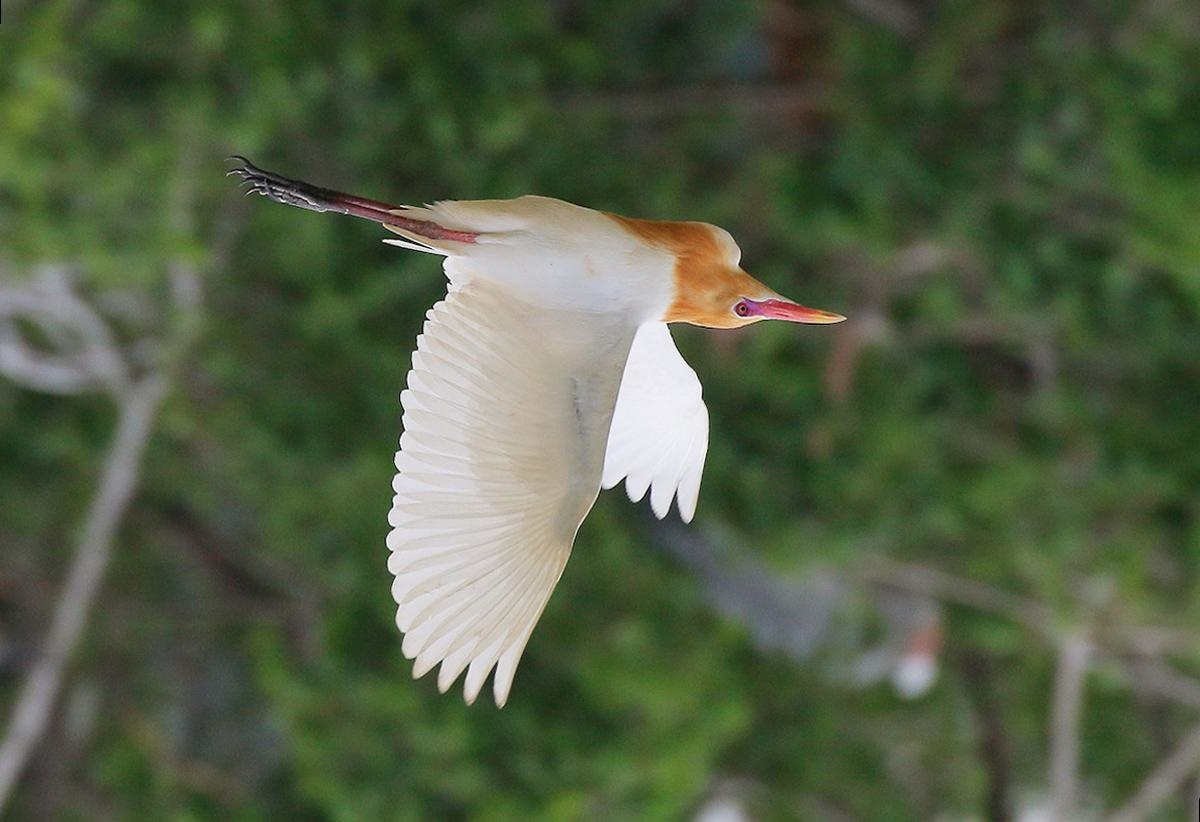egret: (214, 140, 861, 711)
